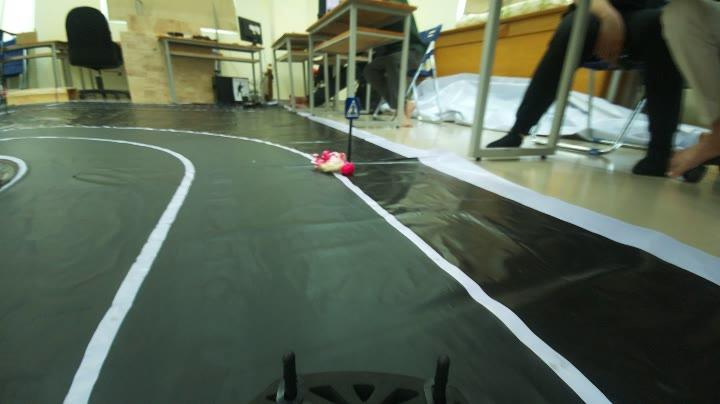crosswalk: (341, 92, 364, 126)
